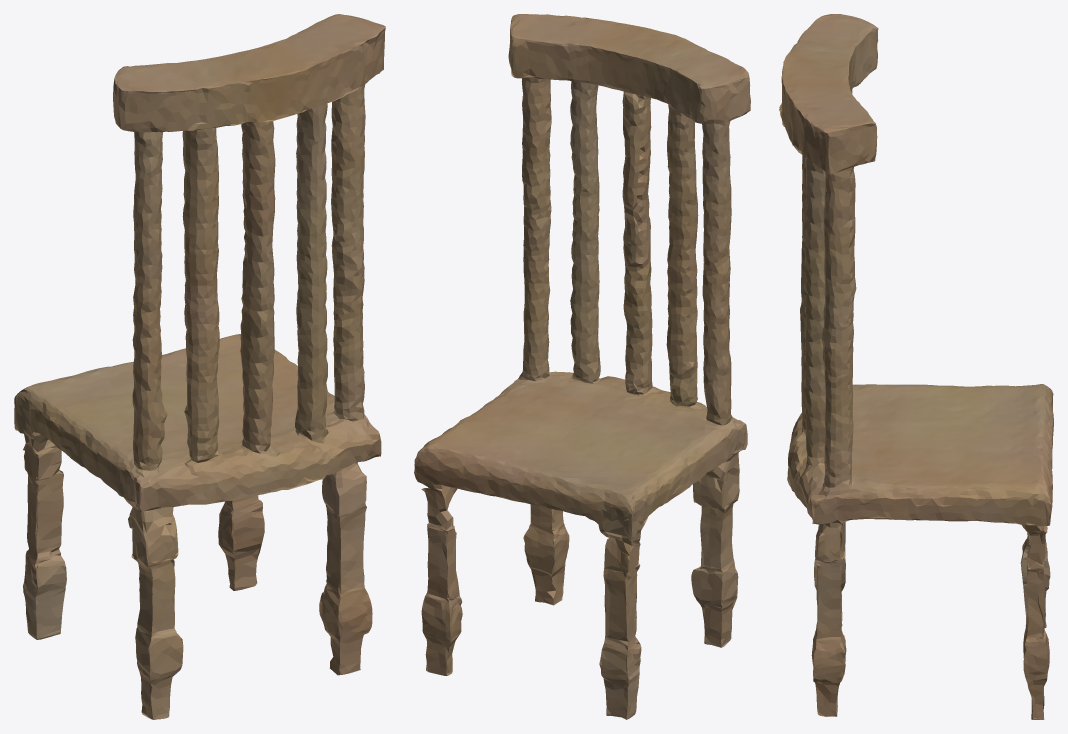
3 renders of one model, left to right at view 1: azimuth 30°, elevation 25°; view 2: azimuth 150°, elevation 25°; view 3: azimuth 270°, elevation 25°, orthographic. The views are drawn at different scales.
Parts seen in each view (by area): view 1: defaultobject; view 2: defaultobject; view 3: defaultobject.
Boxes of the visible parts, bbox=[...] form: defaultobject: bbox=[14, 14, 385, 719]; defaultobject: bbox=[414, 14, 750, 719]; defaultobject: bbox=[779, 14, 1053, 719].
Bounding box in the file's own units: 0.3505 × 0.806 × 0.3351.
